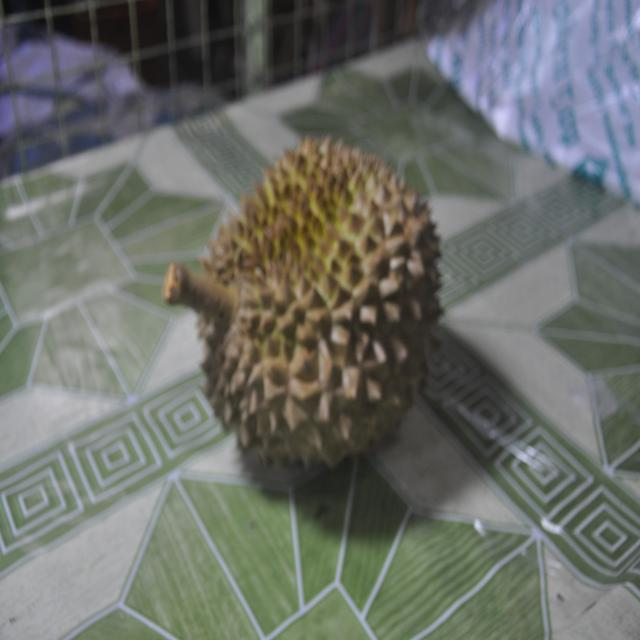mature: (163, 138, 440, 465)
